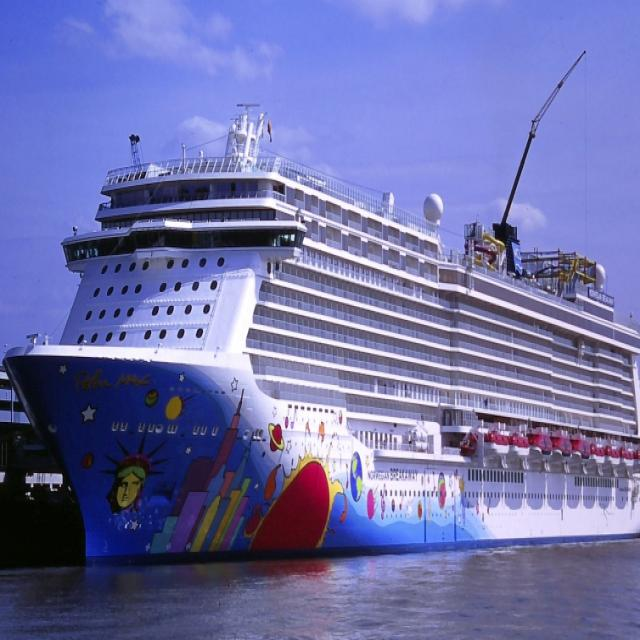cruises: (4, 93, 640, 564)
